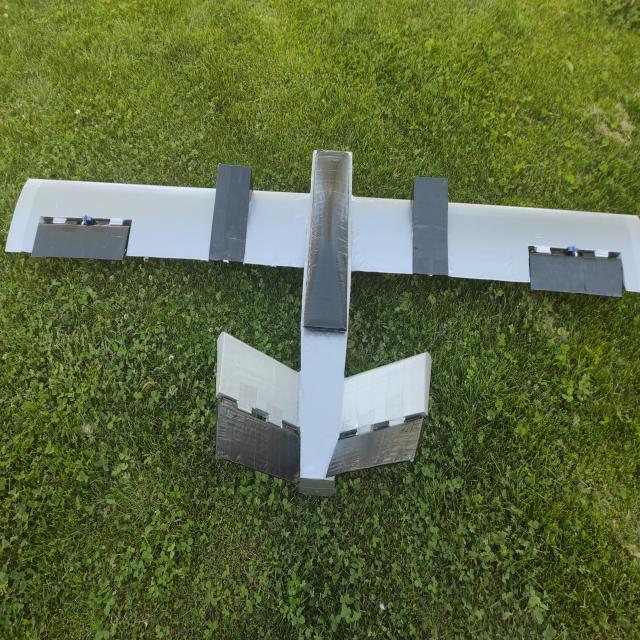iha: (10, 136, 640, 486)
